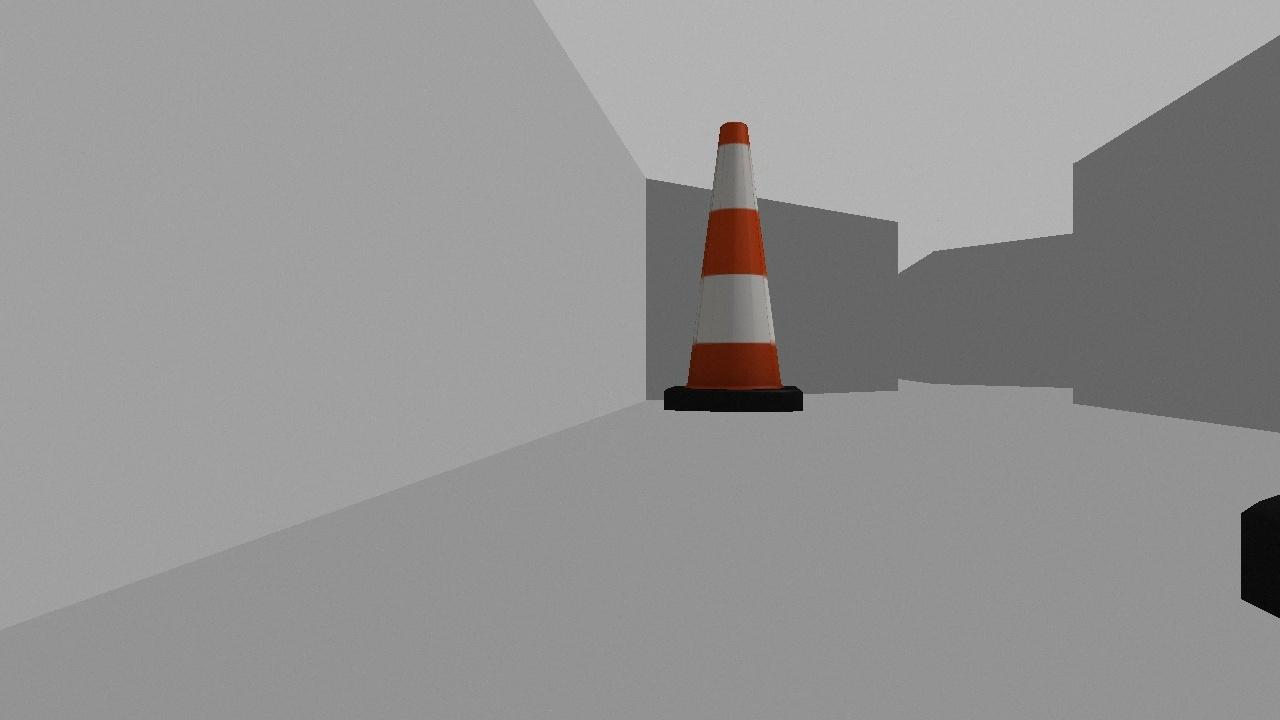cone_barrel: (661, 122, 804, 410)
